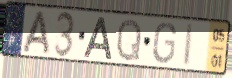3: (53, 9, 76, 60)
A: (20, 9, 51, 56), (82, 16, 113, 60)
G: (151, 21, 178, 65)
I: (182, 22, 197, 69)
Q: (115, 17, 144, 63)
